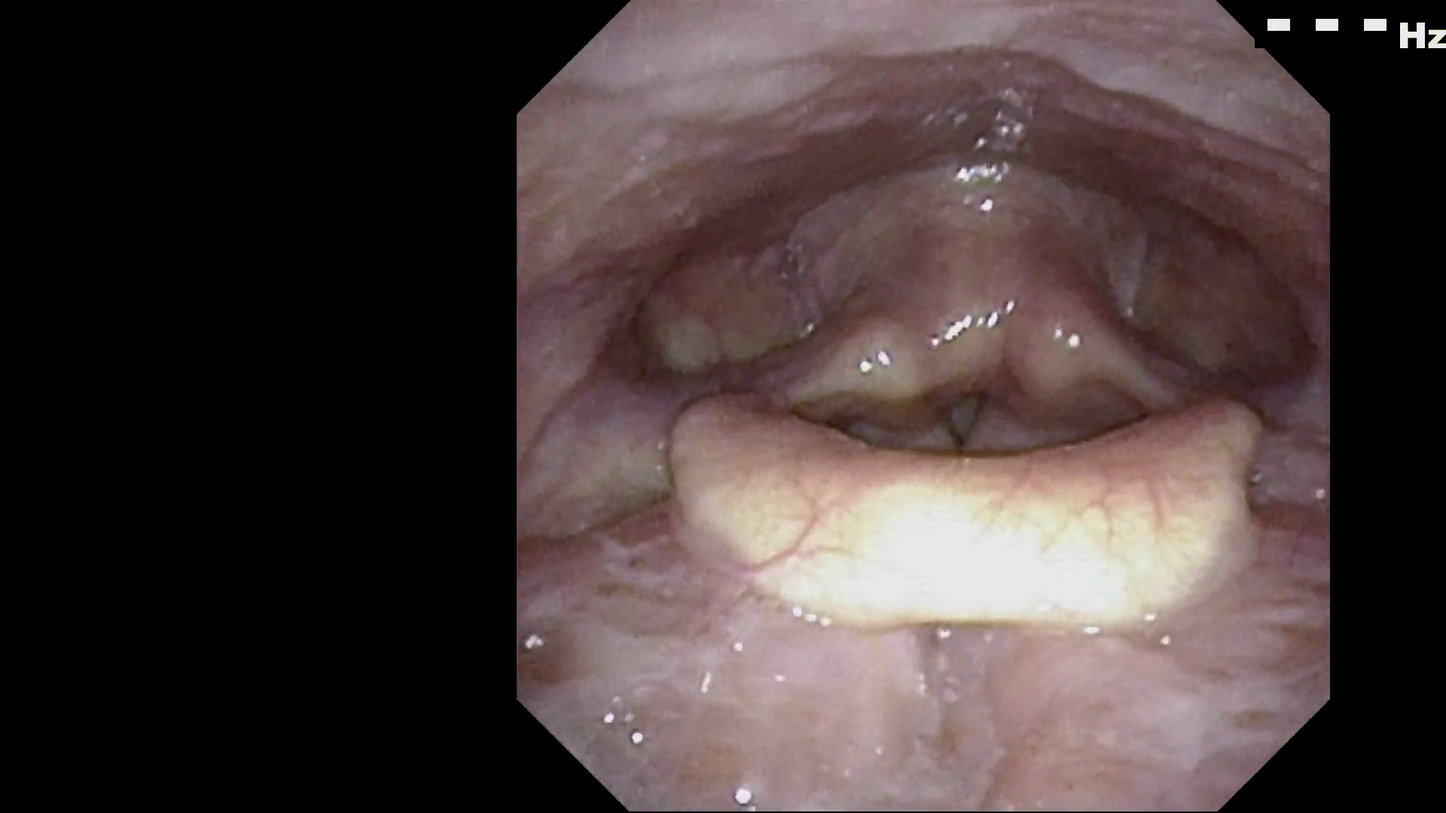epiglottis: (652, 365, 1272, 647)
trachea: (899, 345, 1014, 485)
